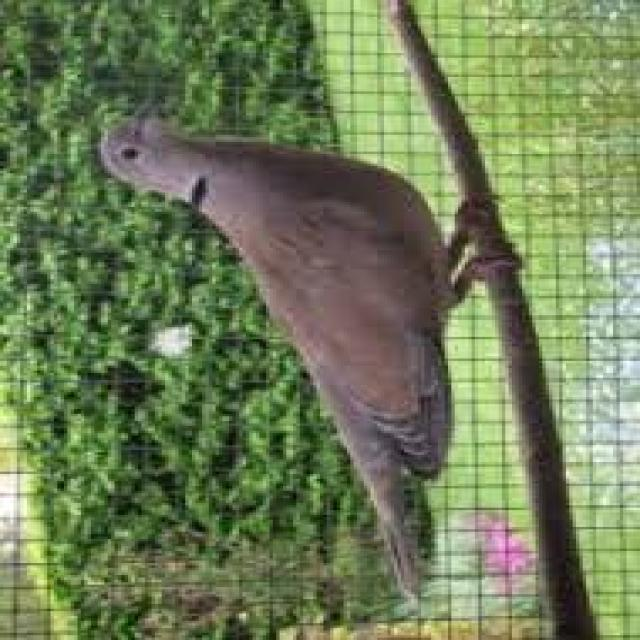pigeon: (86, 99, 514, 590)
